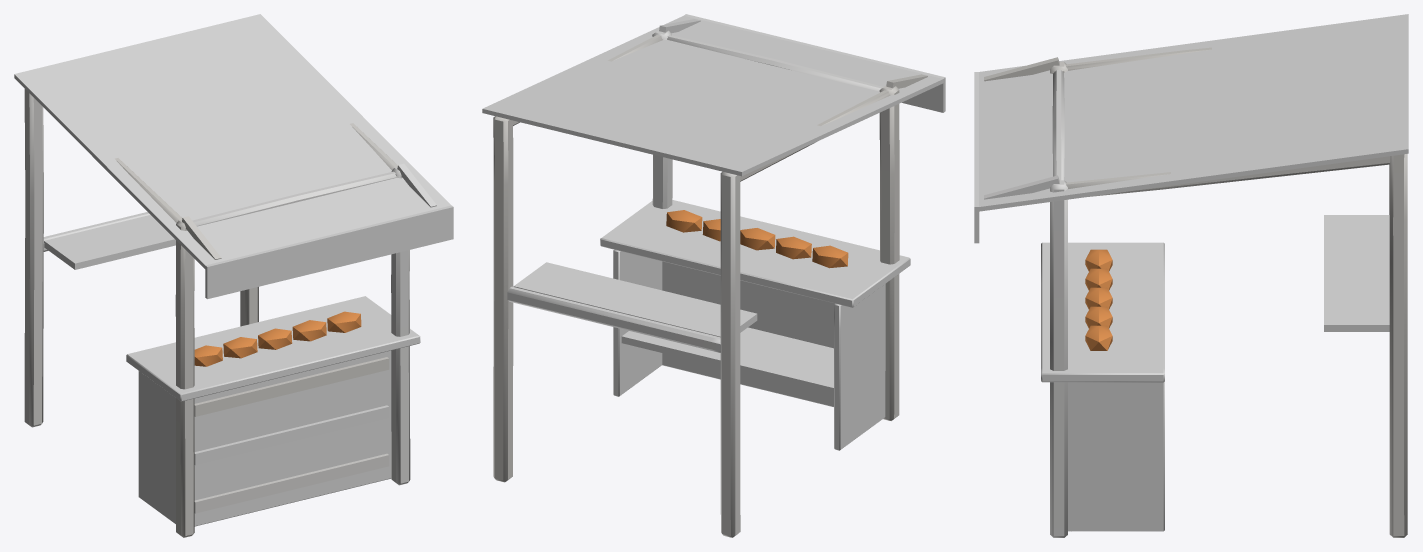
Rendered from Kit_RealStall_StallA.fbx.
3 views of the same model, side by side, from view 1: azimuth 30°, elevation 25°; view 2: azimuth 150°, elevation 25°; view 3: azimuth 270°, elevation 25° (orthographic). The views are drawn at different scales.
Parts seen in each view (by area): view 1: Kit_RealStall_StallA_LOD0; view 2: Kit_RealStall_StallA_LOD0; view 3: Kit_RealStall_StallA_LOD0.
Part boxes in pixels (x1,y1,x2,y2): Kit_RealStall_StallA_LOD0: (14,14,453,537); Kit_RealStall_StallA_LOD0: (482,14,945,537); Kit_RealStall_StallA_LOD0: (974,14,1408,537).
Size of what is drawn, in the model's own units: 1.6 by 2.18 by 2.17.
